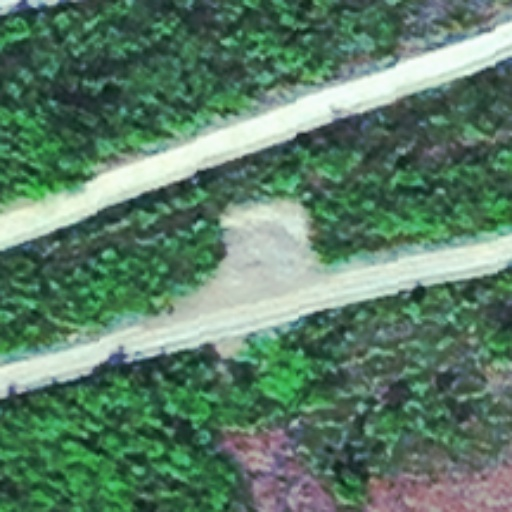landslide: (165, 197, 315, 322)
